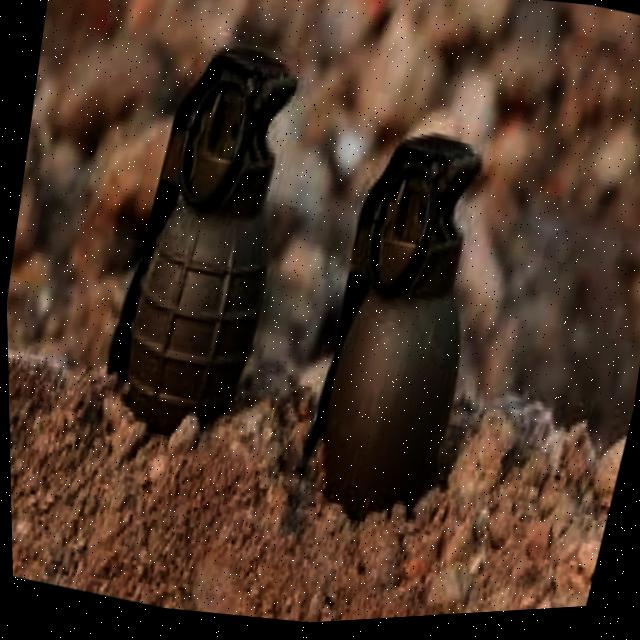grenade: (275, 102, 529, 545), (83, 18, 330, 464)
